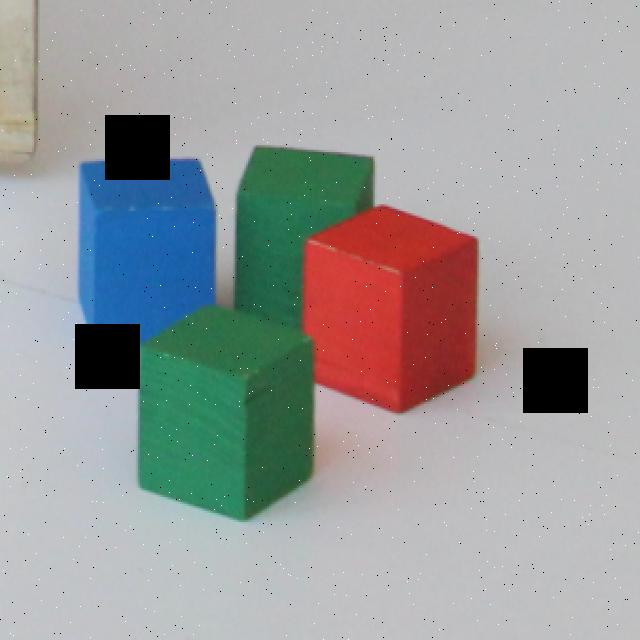bluecube: (78, 156, 220, 344)
green cube: (137, 297, 317, 525), (234, 144, 375, 328)
red cube: (298, 196, 478, 416)
